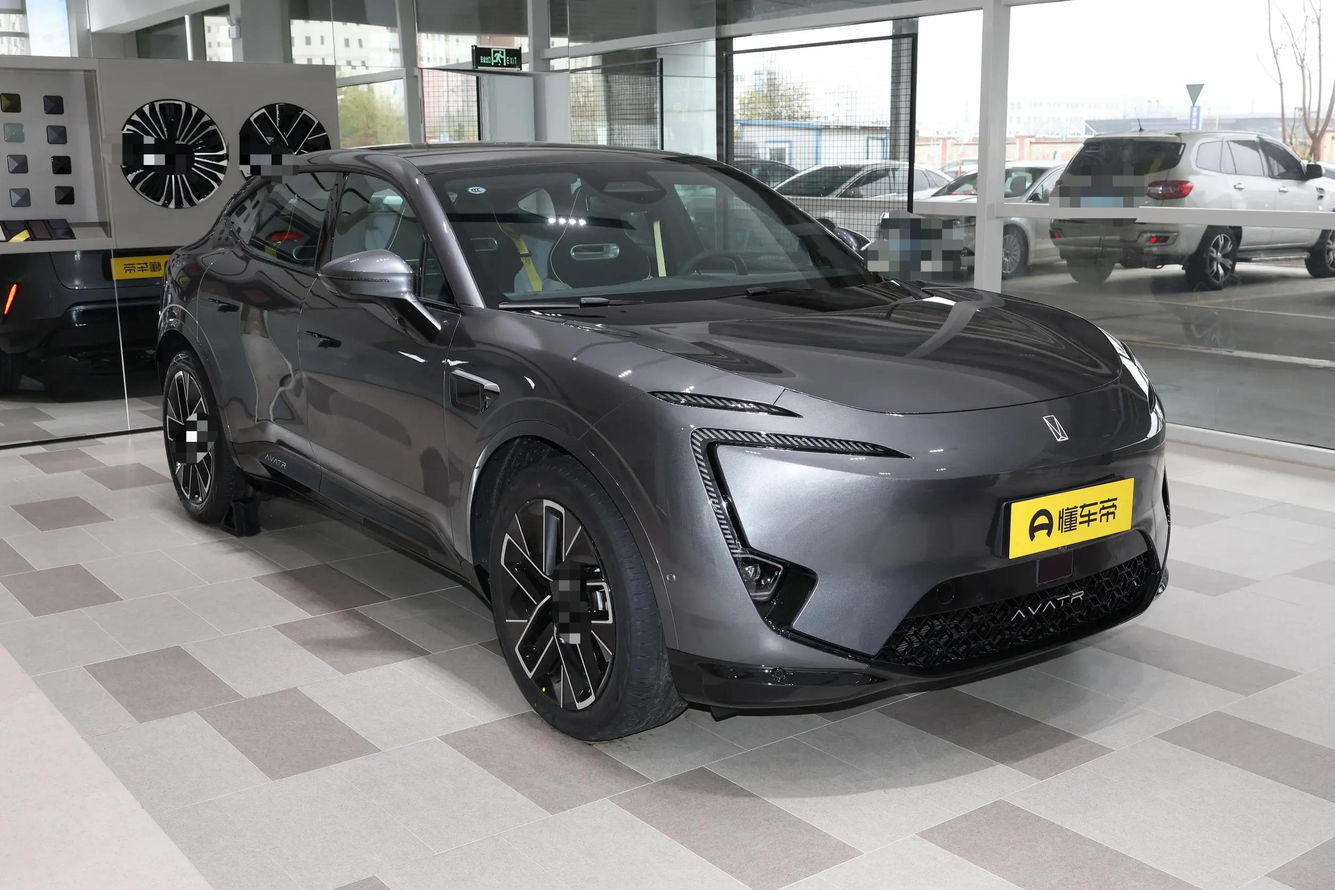AVATR: (1043, 415, 1068, 441)
